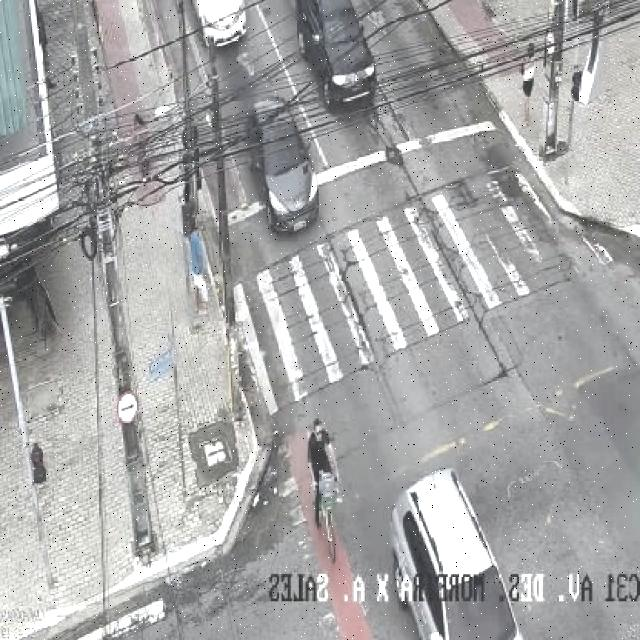Car: (386, 458, 511, 640), (249, 56, 328, 234), (289, 0, 391, 111), (168, 0, 270, 59)
Cycle: (289, 388, 360, 552)
